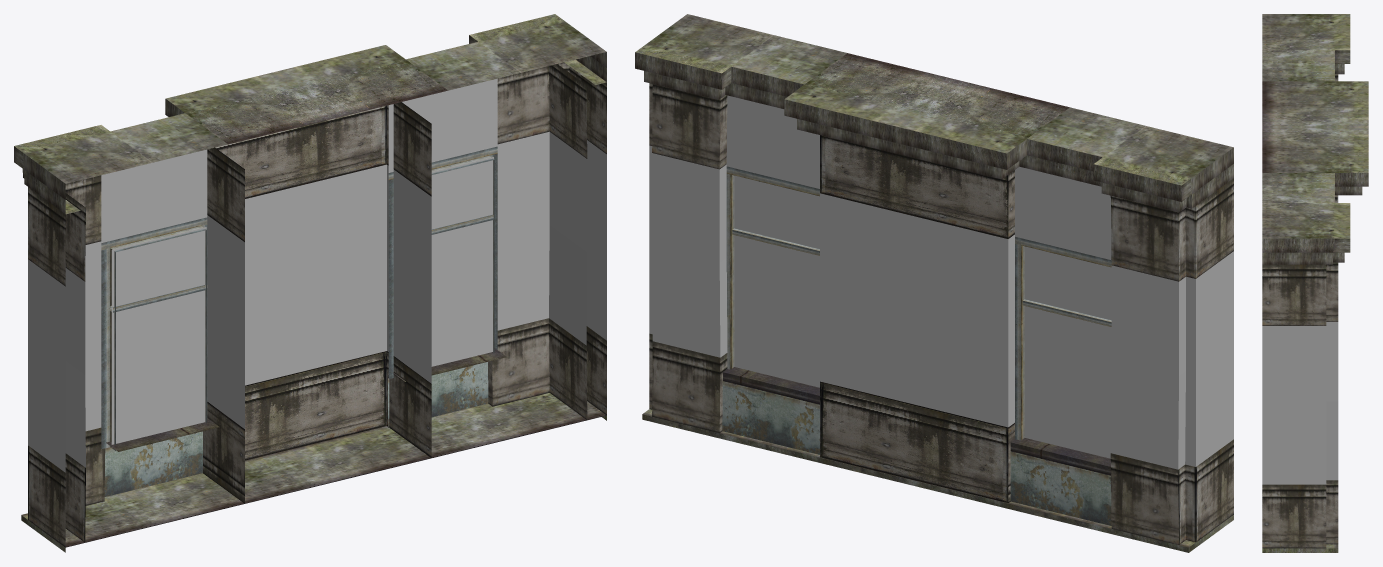
File: Store_front_45.fbx
The picture shows the model from 3 angles, left to right: view 1: azimuth 30°, elevation 25°; view 2: azimuth 150°, elevation 25°; view 3: azimuth 270°, elevation 25°; orthographic projection. The views are drawn at different scales.
Parts seen in each view (by area): view 1: Store_front_45; view 2: Store_front_45; view 3: Store_front_45.
Part boxes in pixels (bbox=[...]): Store_front_45: bbox=[14, 14, 606, 552]; Store_front_45: bbox=[635, 14, 1233, 552]; Store_front_45: bbox=[1262, 14, 1368, 552].
Bounding box in the file's own units: 700 × 456 × 140.
